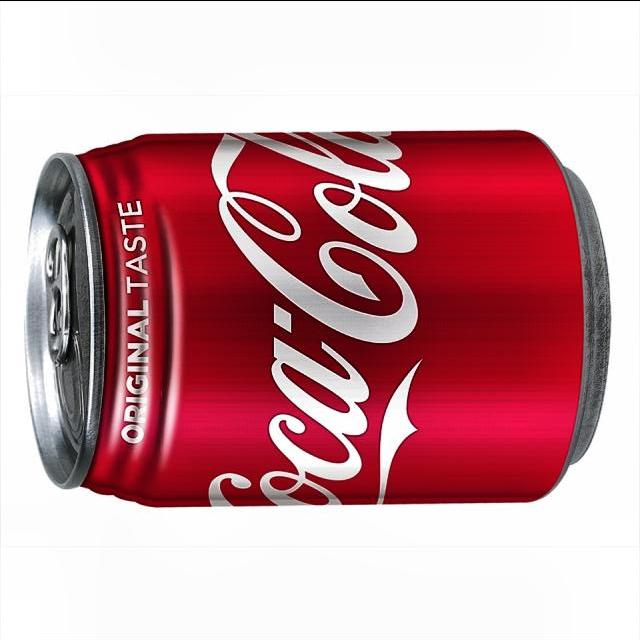litter: (11, 117, 614, 511)
